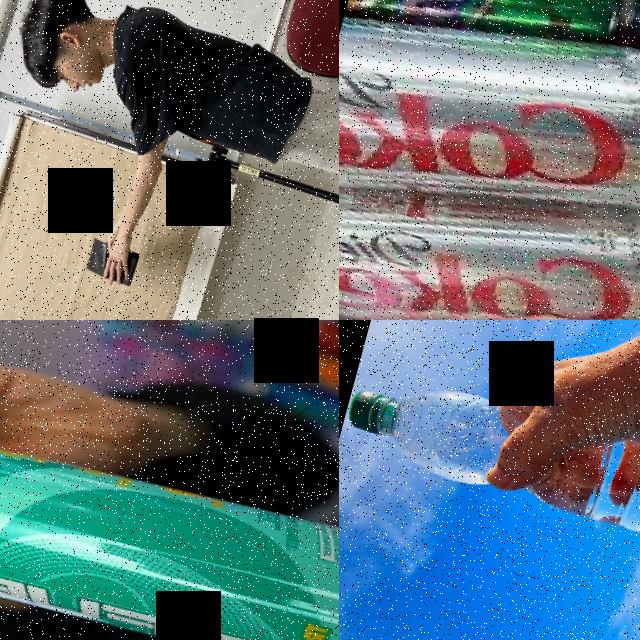bottle: (339, 362, 640, 569)
can: (0, 378, 339, 640), (339, 0, 640, 267), (339, 125, 640, 320), (341, 0, 640, 94), (339, 243, 640, 320)
